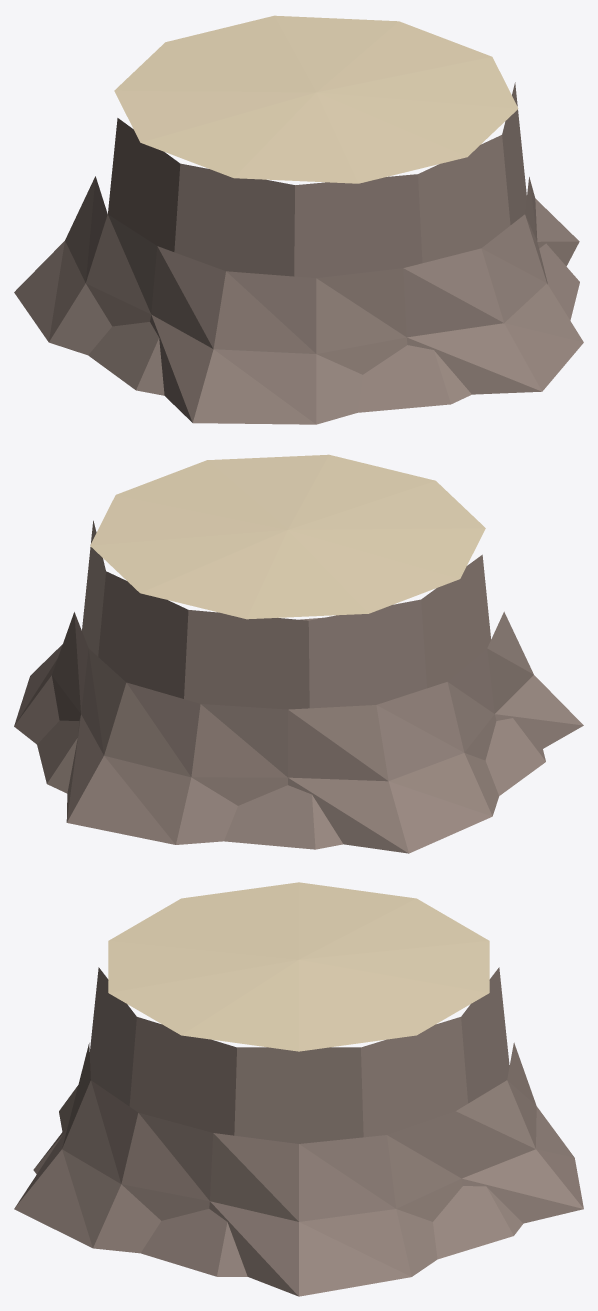
The model's file is temperate-forest-ecology-conifer-stump-cut-a336fd89__3820.glb.
3 renders of one model, top to bottom at view 1: azimuth 30°, elevation 25°; view 2: azimuth 150°, elevation 25°; view 3: azimuth 270°, elevation 25°, orthographic. The views are drawn at different scales.
Parts seen in each view (by area): view 1: conifer-stump-cut; view 2: conifer-stump-cut; view 3: conifer-stump-cut.
Boxes of the visible parts, x1,y1,x2,y2 form: conifer-stump-cut: (14, 15, 583, 424); conifer-stump-cut: (14, 454, 583, 853); conifer-stump-cut: (14, 882, 583, 1296).
Size of the model in its own units: 0.8663 by 0.352 by 0.865.
